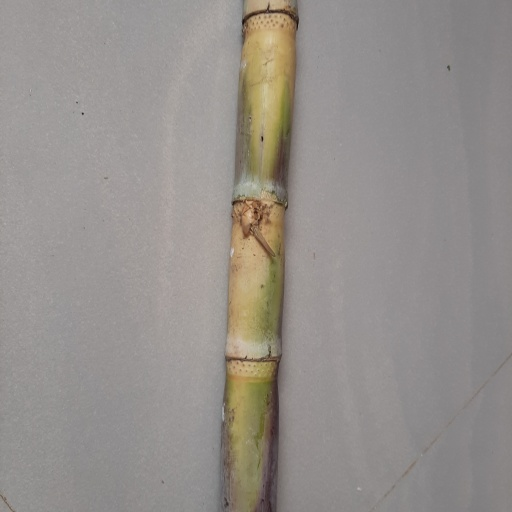Sprouted_Bud: (240, 201, 264, 247)
